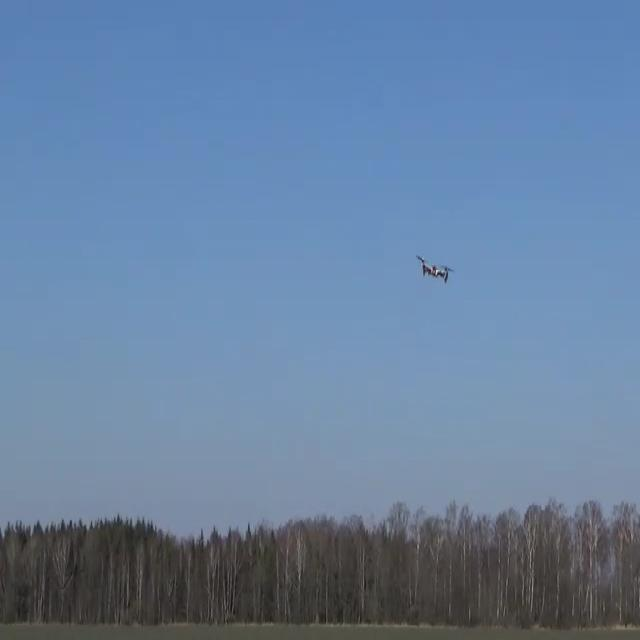Drone: (407, 241, 459, 293)
